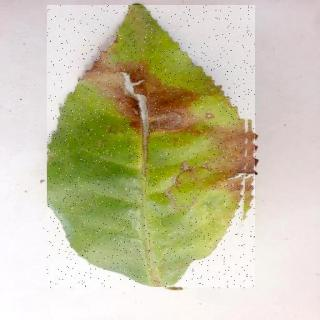Algal Leaf: (49, 7, 258, 290)
